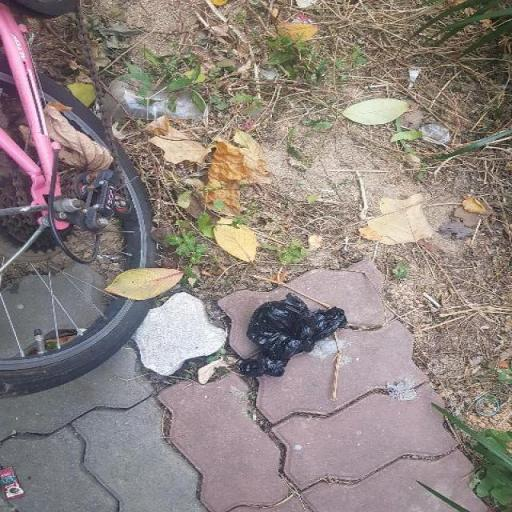plastic-bag: (239, 290, 352, 382)
